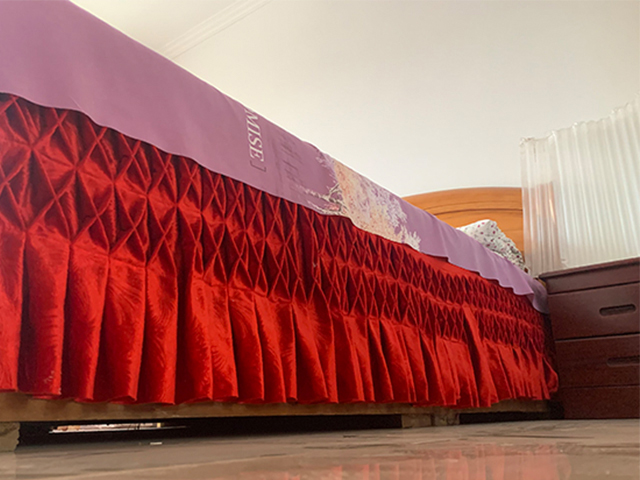bed: (1, 1, 558, 452)
cabinet: (539, 256, 640, 420)
